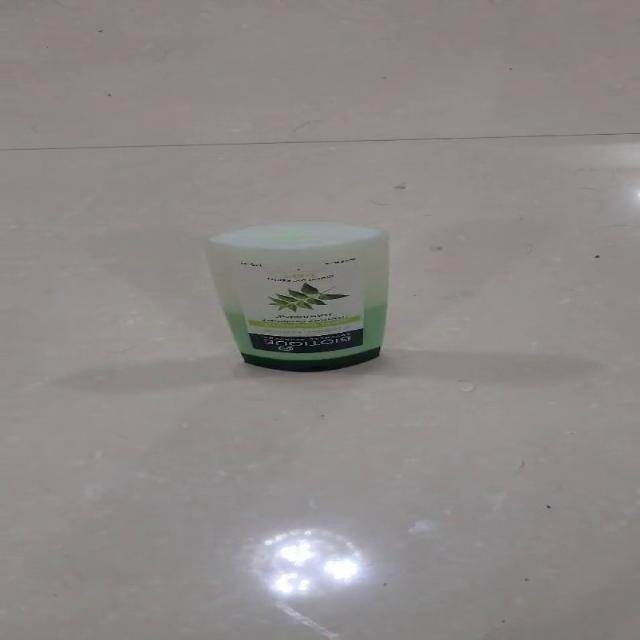plastic: (202, 219, 390, 372)
